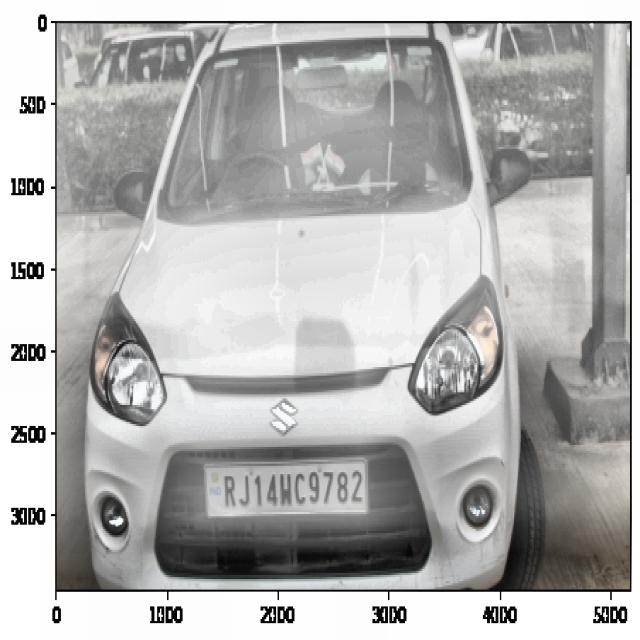license_plate: (215, 462, 367, 517)
